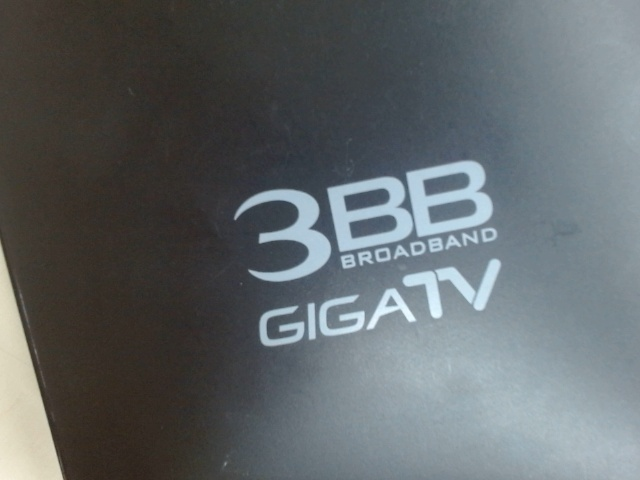AG_3BB: (226, 151, 516, 366)
